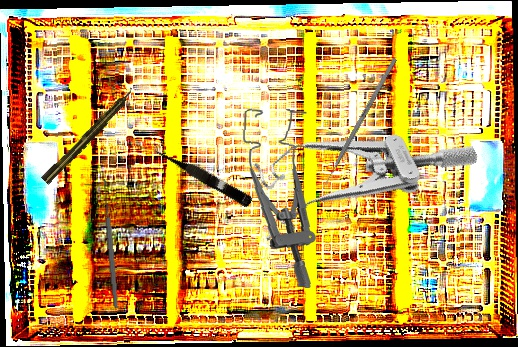Handpiece: (40, 85, 138, 186)
Micro Scissor: (149, 140, 255, 209)
Pusher: (317, 57, 398, 196)
Speculum: (234, 74, 480, 260), (234, 107, 323, 288)
Surgical Spoon: (101, 178, 120, 309)
